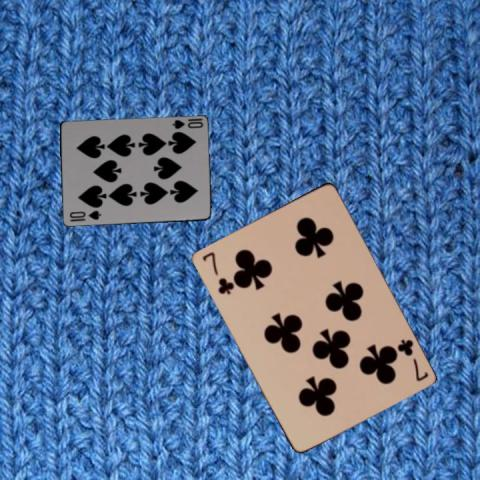10s: (67, 208, 102, 222), (169, 116, 204, 130)
7c: (394, 336, 430, 383), (199, 249, 234, 296)
